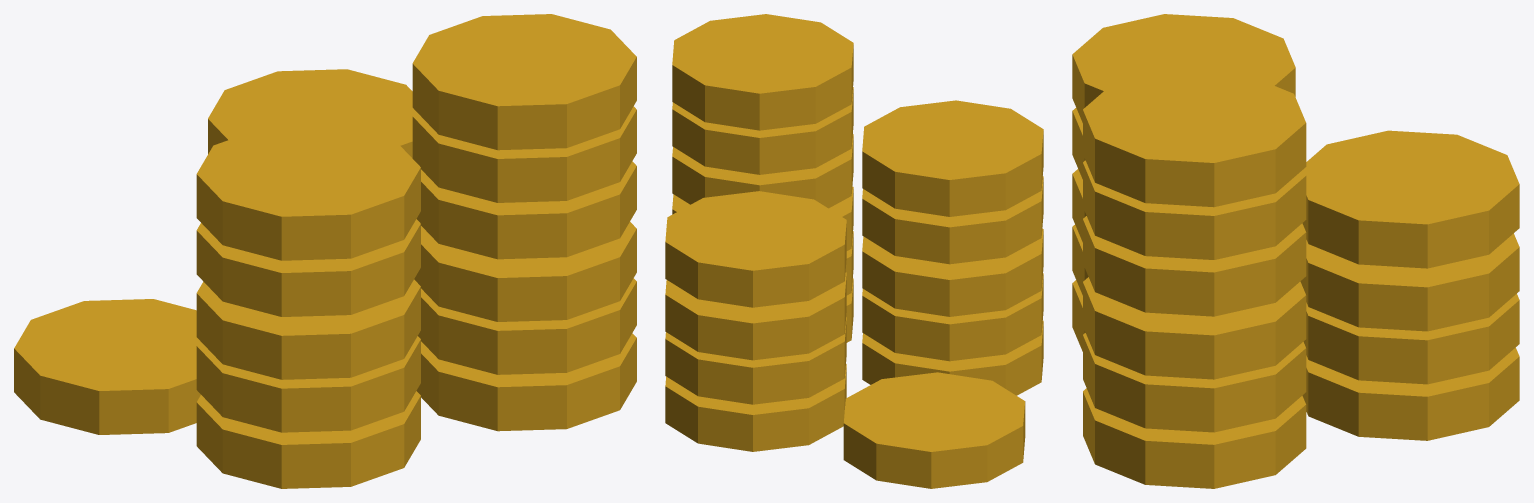
The model's file is Prop_Treasure_Gold_Coins_Stacks_01.FBX.
The picture shows the model from 3 angles, left to right: view 1: azimuth 30°, elevation 25°; view 2: azimuth 150°, elevation 25°; view 3: azimuth 270°, elevation 25°; orthographic projection. The views are drawn at different scales.
Parts seen in each view (by area): view 1: Prop_Treasure_Gold_Coins_Stacks_01; view 2: Prop_Treasure_Gold_Coins_Stacks_01; view 3: Prop_Treasure_Gold_Coins_Stacks_01.
Boxes of the visible parts, <box> form: Prop_Treasure_Gold_Coins_Stacks_01: <box>14,14,636,488</box>; Prop_Treasure_Gold_Coins_Stacks_01: <box>665,14,1043,488</box>; Prop_Treasure_Gold_Coins_Stacks_01: <box>1072,14,1519,488</box>.
Bounding box in the file's own units: 230 × 145 × 180.
